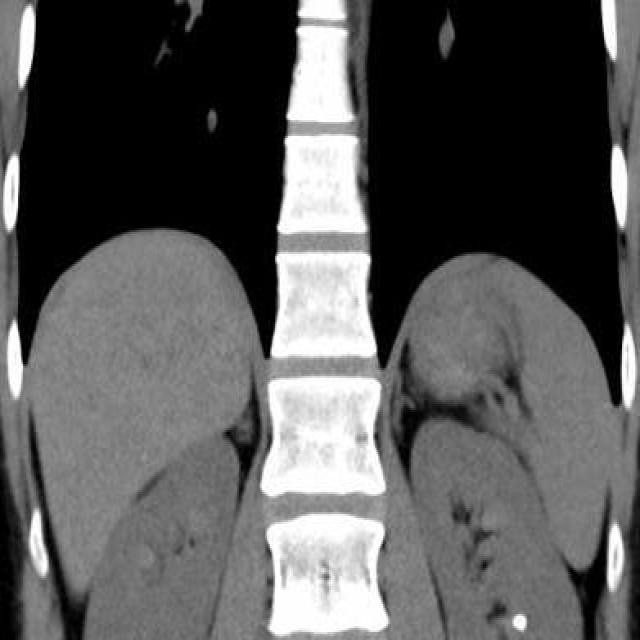Tas_Var: (510, 605, 531, 637)
